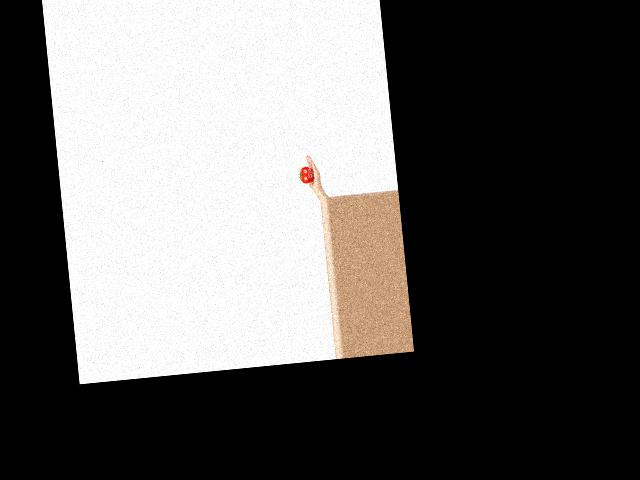tomato: (299, 165, 314, 183)
